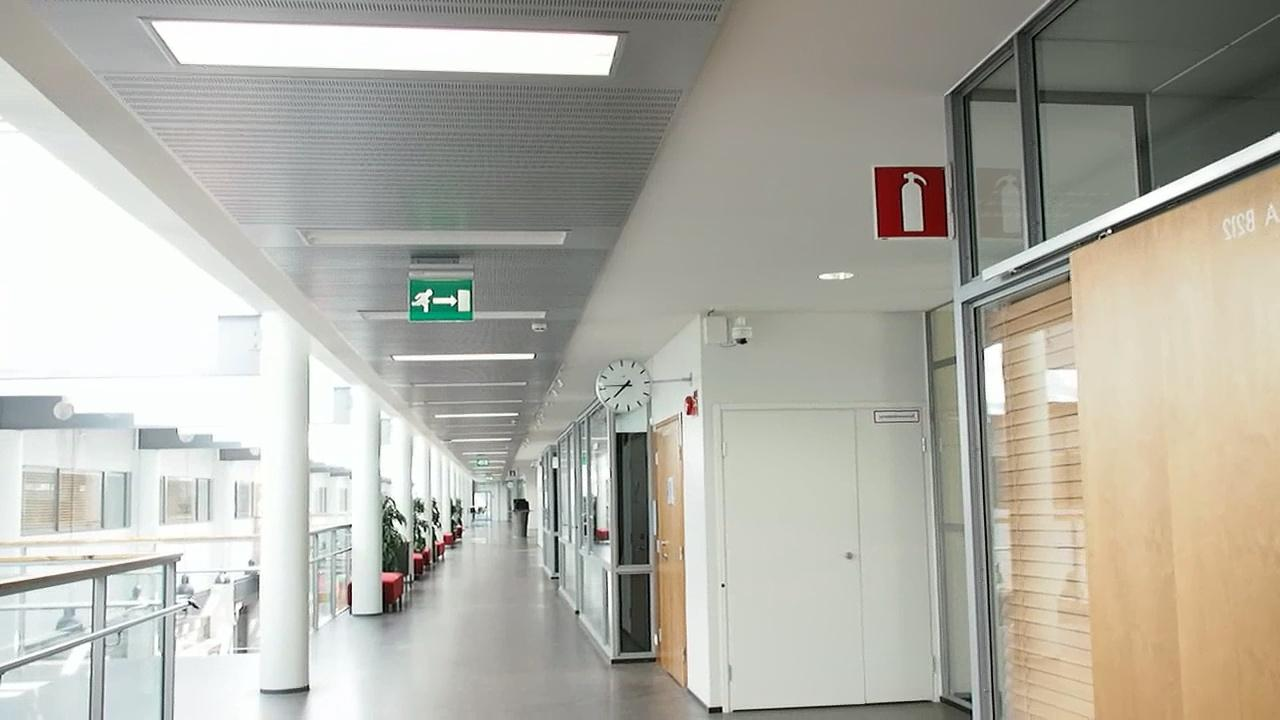clock: (593, 361, 654, 418)
exit: (403, 278, 473, 325)
fireextinguisher: (876, 160, 953, 240)
